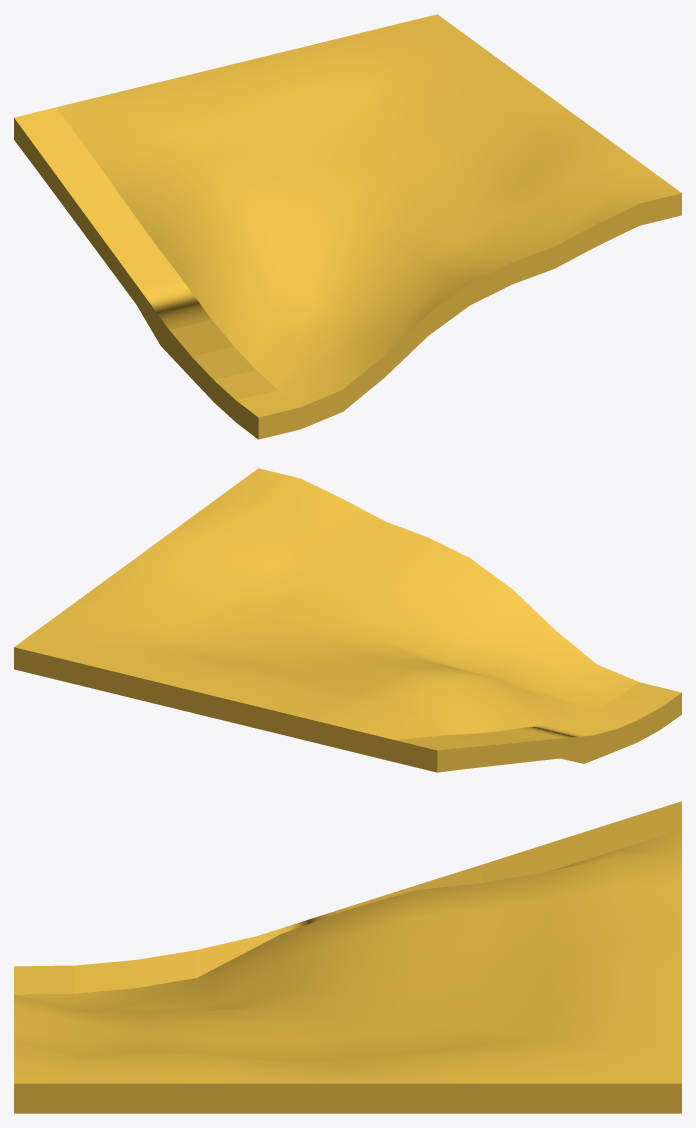
Rendered from Flach - Unten - Ecke Invertiert x - a.fbx.
3 views of the same model, one above another, from view 1: azimuth 30°, elevation 25°; view 2: azimuth 150°, elevation 25°; view 3: azimuth 270°, elevation 25° (orthographic). The views are drawn at different scales.
Visible parts, largest first — view 1: Flach - Unten - Ecke Invertiert x - a; view 2: Flach - Unten - Ecke Invertiert x - a; view 3: Flach - Unten - Ecke Invertiert x - a.
Boxes of the visible parts, bbox=[...] form: Flach - Unten - Ecke Invertiert x - a: bbox=[14, 14, 681, 439]; Flach - Unten - Ecke Invertiert x - a: bbox=[14, 468, 681, 772]; Flach - Unten - Ecke Invertiert x - a: bbox=[14, 801, 681, 1113].
Bounding box in the file's own units: 394 × 127 × 394.
